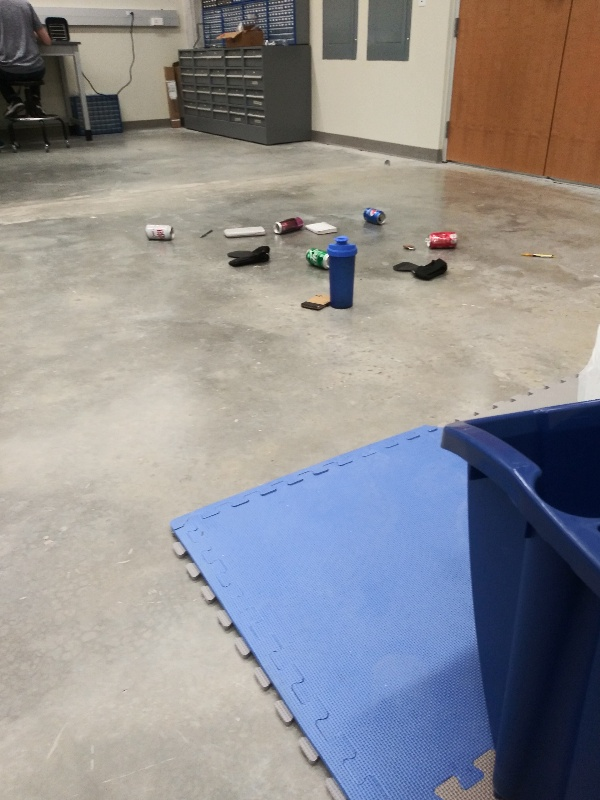can: (423, 230, 464, 250), (143, 221, 177, 243), (302, 245, 330, 269), (272, 216, 305, 235), (361, 204, 387, 226)
